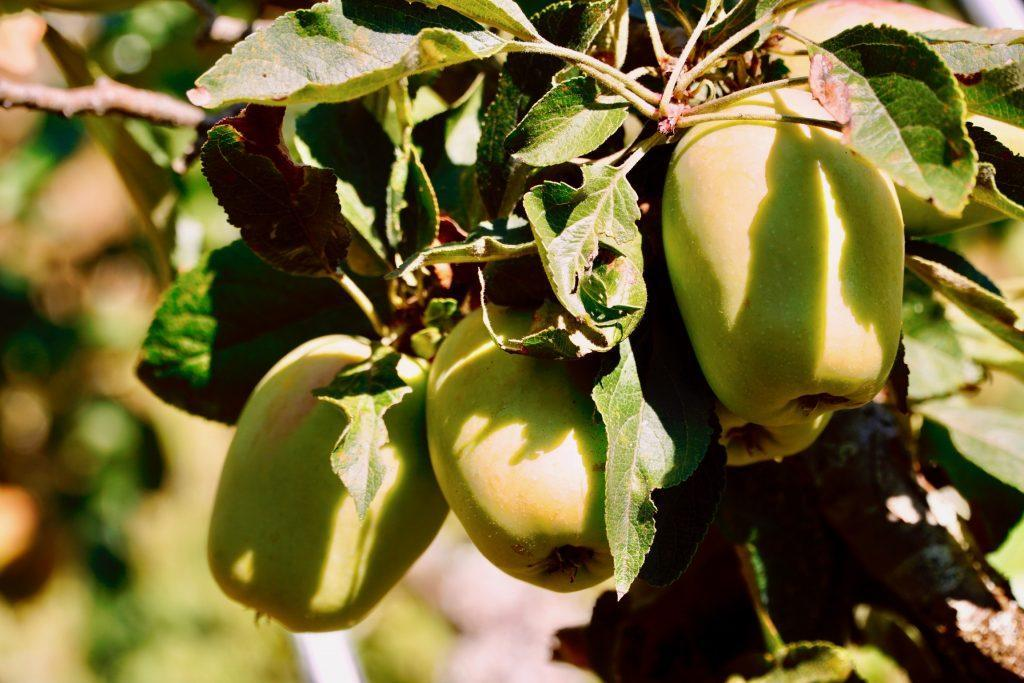apple: (667, 118, 909, 430), (209, 332, 452, 638), (427, 292, 633, 596)
